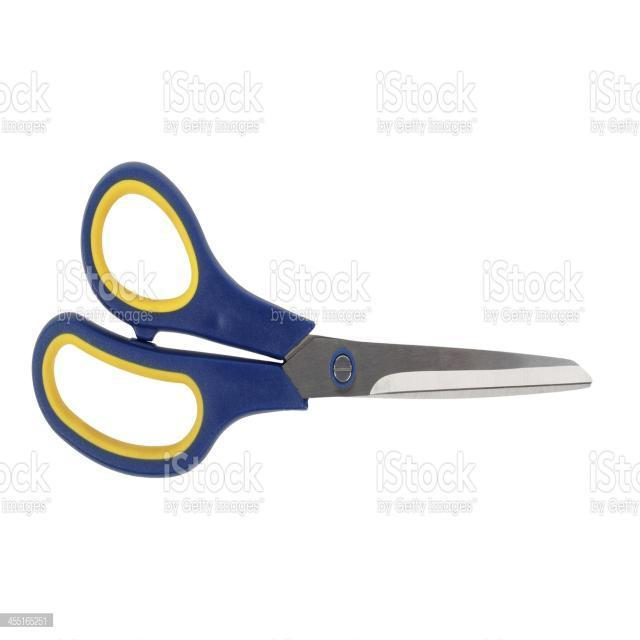scissor: (34, 164, 592, 479)
